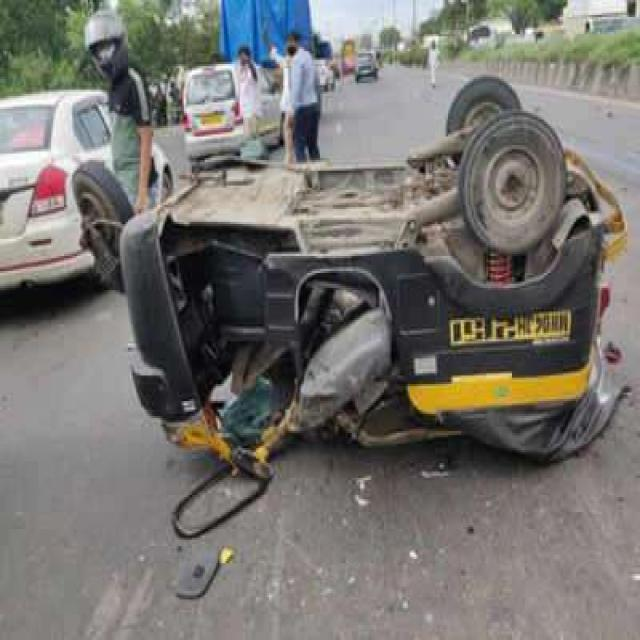accident: (120, 77, 628, 462)
car: (0, 90, 110, 289)
